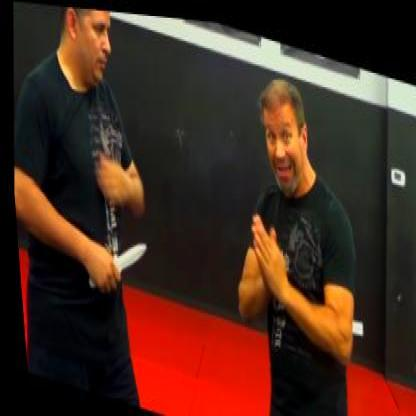knife: (76, 216, 148, 303)
